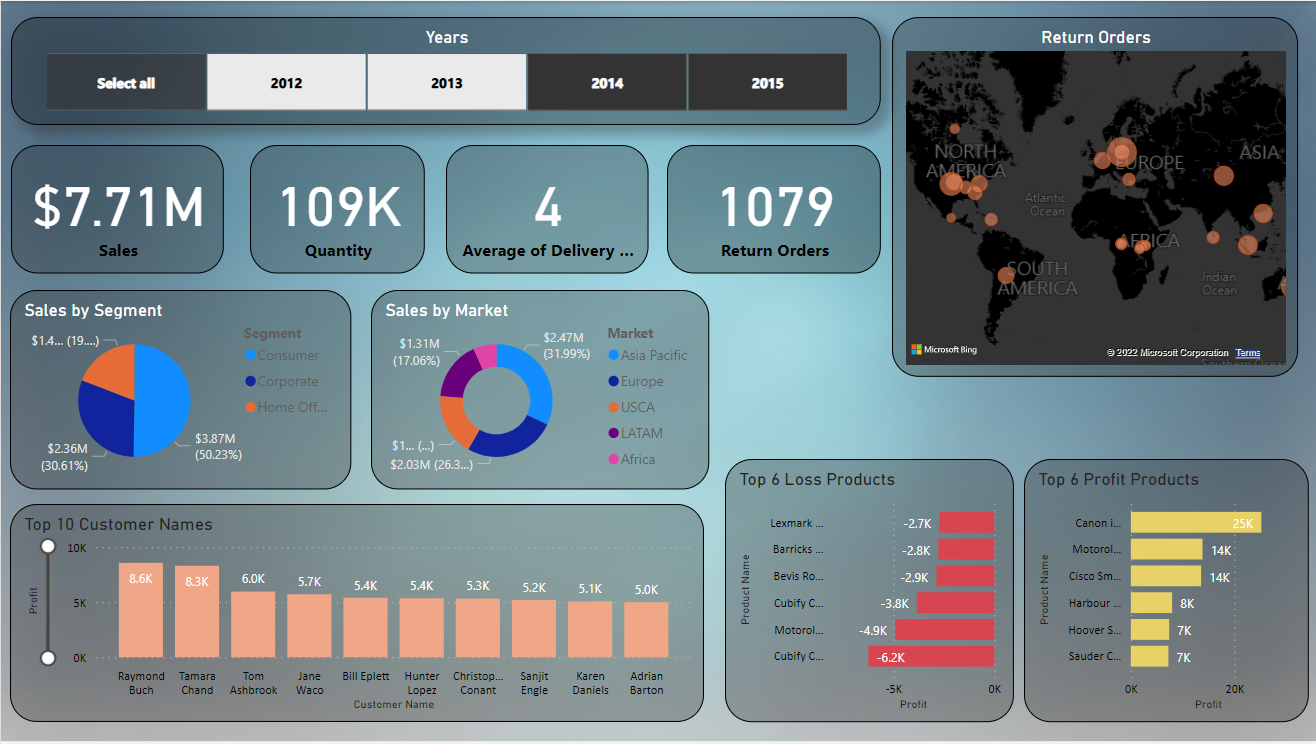

Layout of this report page (visuals, bound fields, positions):
{"tool":"powerbi","page":{"name":"Page 1","canvas":[1280,720],"ordinal":0},"visuals":[{"type":"card","fields":{"Values":["Orders.Sales"]},"box":[9.7,140.1,207.2,125.5],"z":0},{"type":"card","fields":{"Values":["Orders.Quantity"]},"box":[242.2,140.1,170.2,125.5],"z":1000},{"type":"card","fields":{"Values":["Orders.Delivery Days"]},"box":[432.8,140.1,197.4,125.5],"z":2000},{"type":"slicer","title":"Years","fields":{"Values":["Orders.Year"]},"box":[9.7,15.6,846.2,105],"z":3000},{"type":"card","fields":{"Values":["Returns.Return Orders"]},"box":[647.8,140.1,208.1,125.5],"z":4000},{"type":"map","title":"Return Orders","fields":{"Category":["Orders.Region"],"Size":["Orders.Sales"]},"box":[866.6,15.6,394.9,350.2],"z":5000},{"type":"barChart","title":"Top 6 Profit Products","fields":{"Y":["Orders.Profit"],"Category":["Orders.Product Name"]},"box":[995,445.5,277.2,255.8],"z":6000},{"type":"barChart","title":"Top 6  Loss Products","fields":{"Y":["Orders.Profit"],"Category":["Orders.Product Name"]},"box":[704.2,445.5,281.1,255.8],"z":7000},{"type":"pieChart","fields":{"Category":["Orders.Segment"],"Y":["Orders.Sales"]},"box":[8.8,281.1,331.7,193.6],"z":8000},{"type":"donutChart","fields":{"Category":["Orders.Market"],"Y":["Orders.Sales"]},"box":[359.9,281.1,328.8,193.6],"z":9000},{"type":"columnChart","title":"Top 10 Customer Names","fields":{"Y":["Orders.Profit"],"Category":["Orders.Customer Name"]},"box":[8.8,489.2,675,212],"z":9001}]}

Visuals, with their boxes in screenshot pixels (x1, y1, x2, y2), scaled from the page's 1280x720 canvas onto the 1316x744 screenshot:
card - Orders.Sales: <box>10,145,223,274</box>
card - Orders.Quantity: <box>249,145,424,274</box>
card - Orders.Delivery Days: <box>445,145,648,274</box>
"Years" slicer: <box>10,16,880,125</box>
card - Returns.Return Orders: <box>666,145,880,274</box>
"Return Orders" map: <box>891,16,1297,378</box>
"Top 6 Profit Products" barChart: <box>1023,460,1308,725</box>
"Top 6  Loss Products" barChart: <box>724,460,1013,725</box>
pieChart - Orders.Segment x Orders.Sales: <box>9,290,350,491</box>
donutChart - Orders.Market x Orders.Sales: <box>370,290,708,491</box>
"Top 10 Customer Names" columnChart: <box>9,506,703,725</box>
